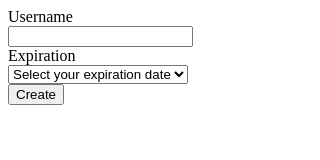
Scenario: LoginForm › Shows instant error messages
In the field: [100, 36] box left=8, top=26, right=193, bottom=47, type "sun"
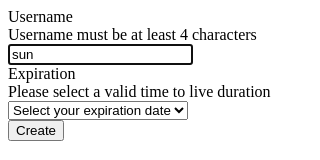
expect the text "Username must be at least 4 characters" is shown: met, box left=8, top=26, right=257, bottom=43
